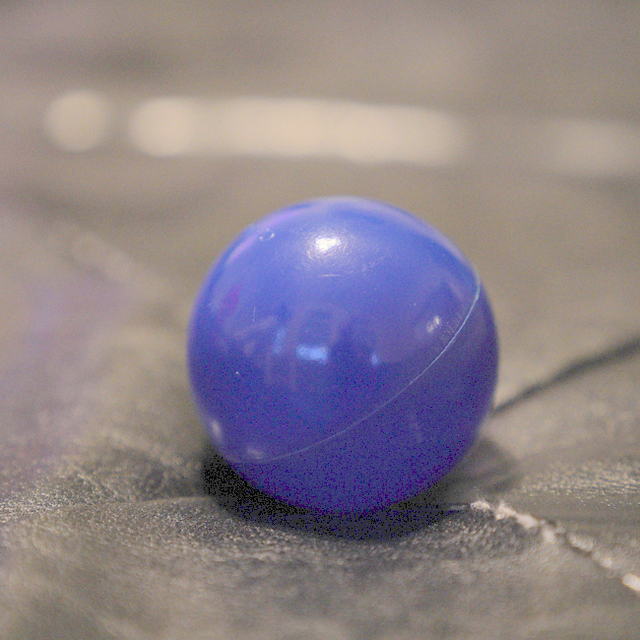Ball: (186, 197, 499, 513)
